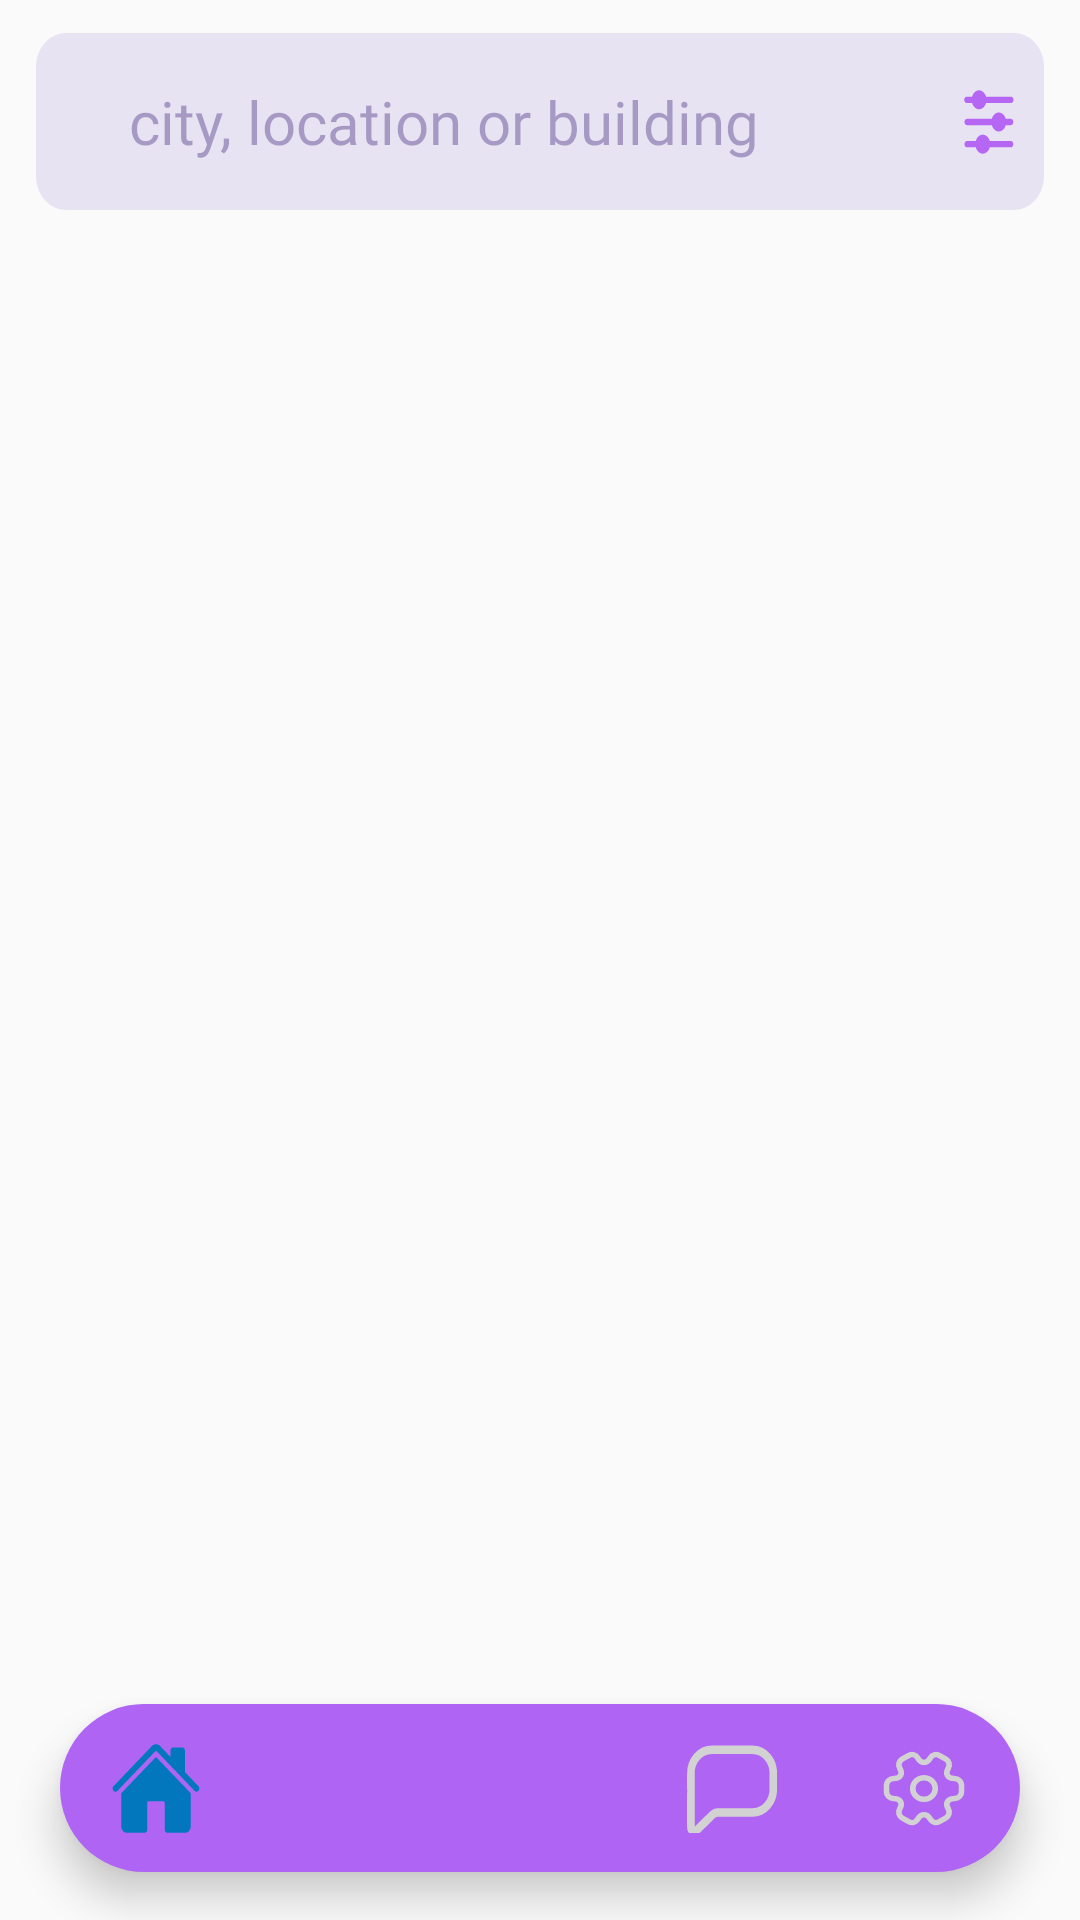

Point at icon controls on the screen. Image size 1080x1920, points as [x,y].
filter move: [989,122]
